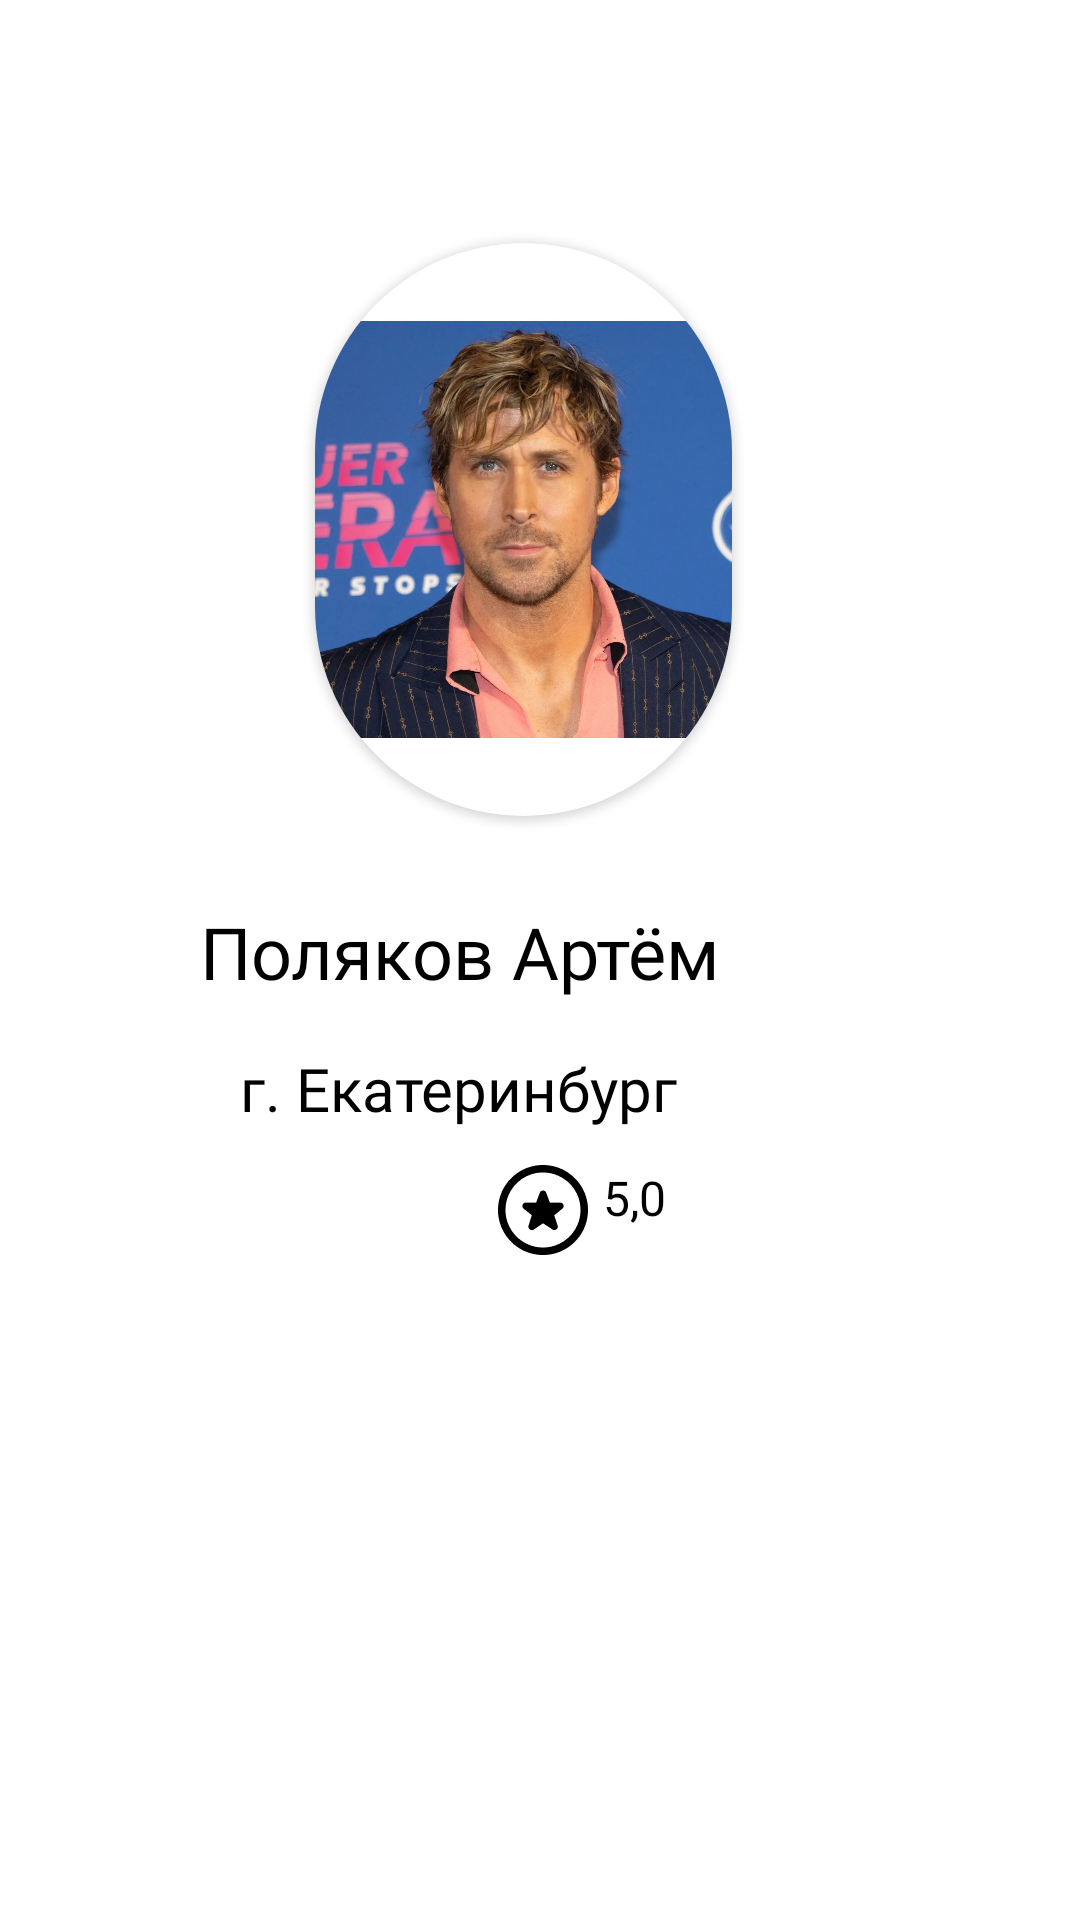

Named icons in this screenshot (1080px x 1920px) and their bounding boxes, (x1, y1, x2, y2):
rating: (498, 1165, 588, 1255)
